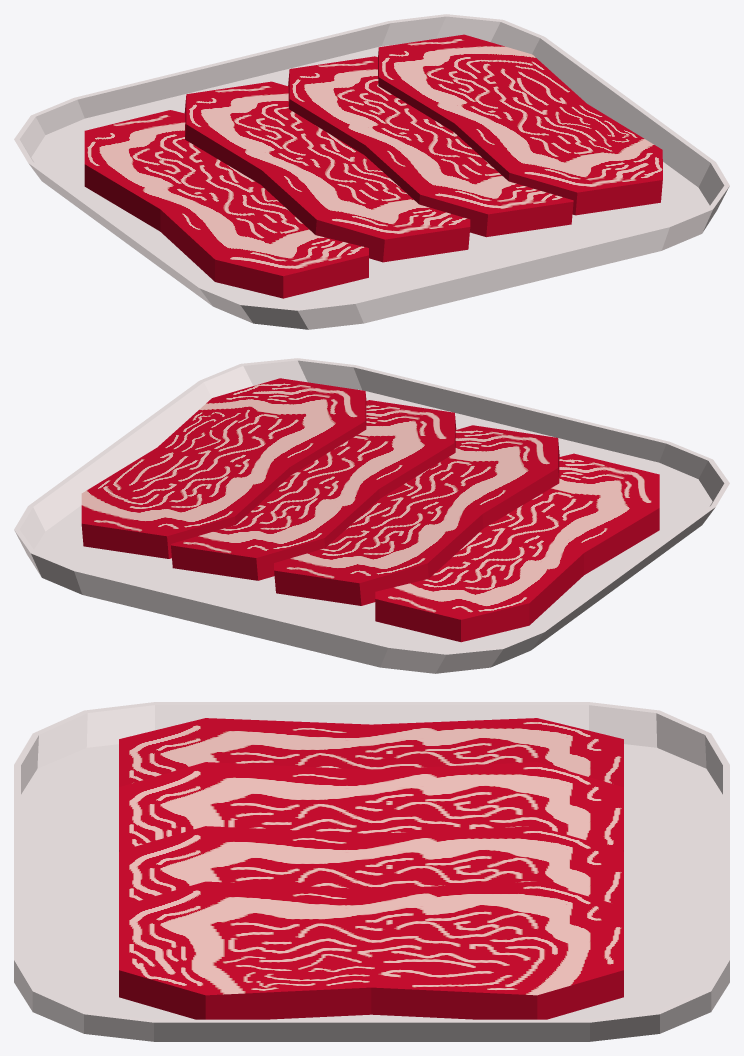
The model's file is Collectible Item.fbx_Beef_Fillet.fbx.
The picture shows the model from 3 angles, top to bottom: view 1: azimuth 30°, elevation 25°; view 2: azimuth 150°, elevation 25°; view 3: azimuth 270°, elevation 25°; orthographic projection. The views are drawn at different scales.
Parts seen in each view (by area): view 1: Beef Fillet Tray; view 2: Beef Fillet Tray; view 3: Beef Fillet Tray.
Part boxes in pixels (x1,y1,x2,y2): Beef Fillet Tray: (14,14,729,329); Beef Fillet Tray: (14,358,729,673); Beef Fillet Tray: (14,702,729,1041).
Bounding box in the file's own units: 4.87 × 0.3768 × 4.6.
Materials: 2 (2 with a texture image).
